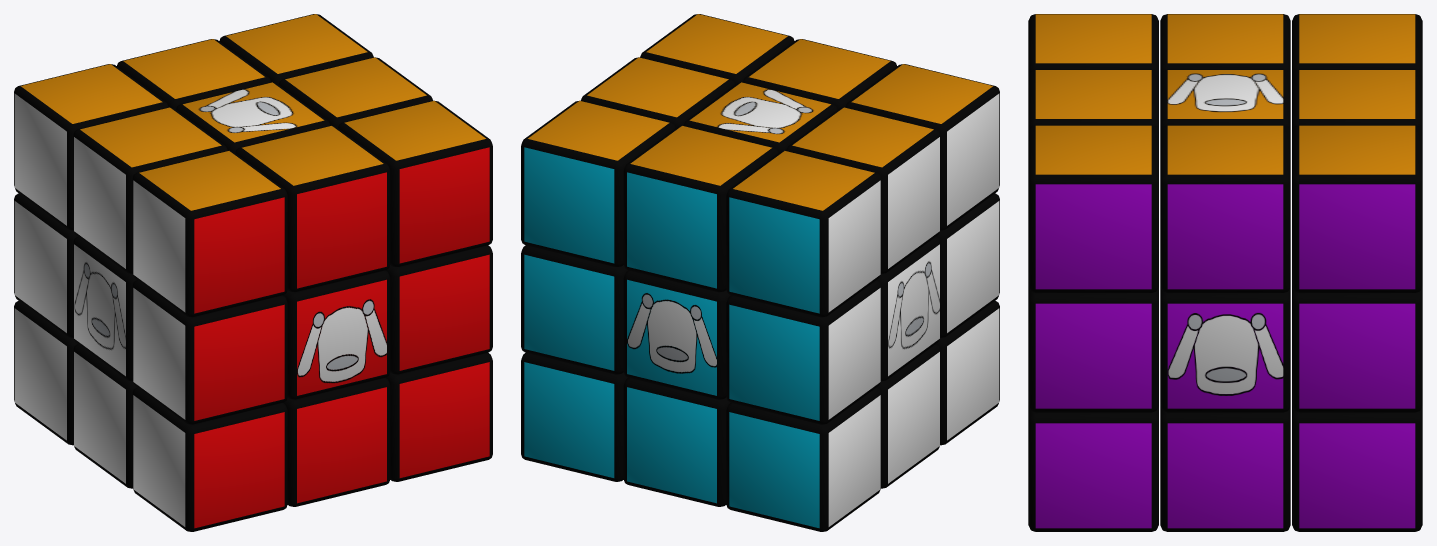
Rendered from rubiks cube d.fbx.
3 renders of one model, left to right at view 1: azimuth 30°, elevation 25°; view 2: azimuth 150°, elevation 25°; view 3: azimuth 270°, elevation 25°, orthographic. The views are drawn at different scales.
Parts seen in each view (by area): view 1: Cube; view 2: Cube; view 3: Cube.
Boxes of the visible parts, left/top/right/bottom form: Cube: left=14, top=14, right=492, bottom=531; Cube: left=521, top=14, right=999, bottom=531; Cube: left=1028, top=14, right=1422, bottom=531.
Bounding box in the file's own units: 118 × 118 × 118.
Materials: 1 (1 with a texture image).
